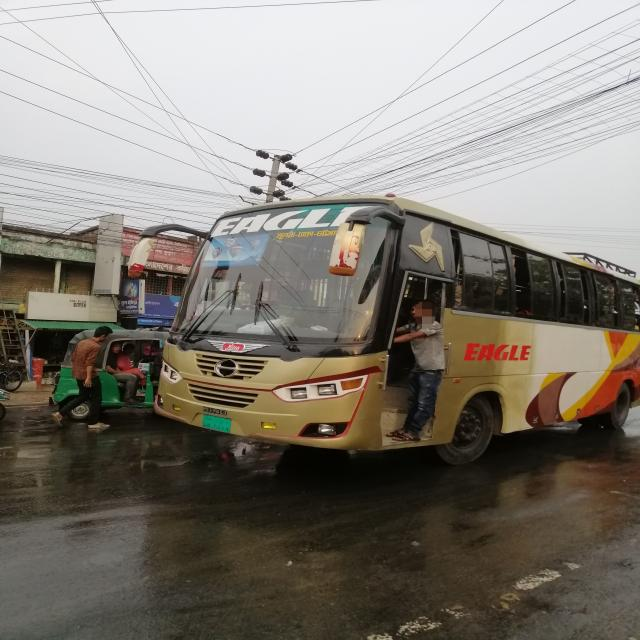Bus: (124, 198, 640, 473)
